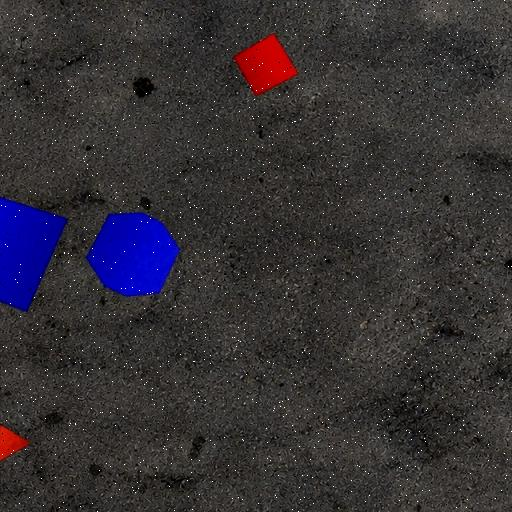BLUE_SQUARE: (0, 188, 69, 313)
RED_SQUARE: (233, 33, 299, 97)
